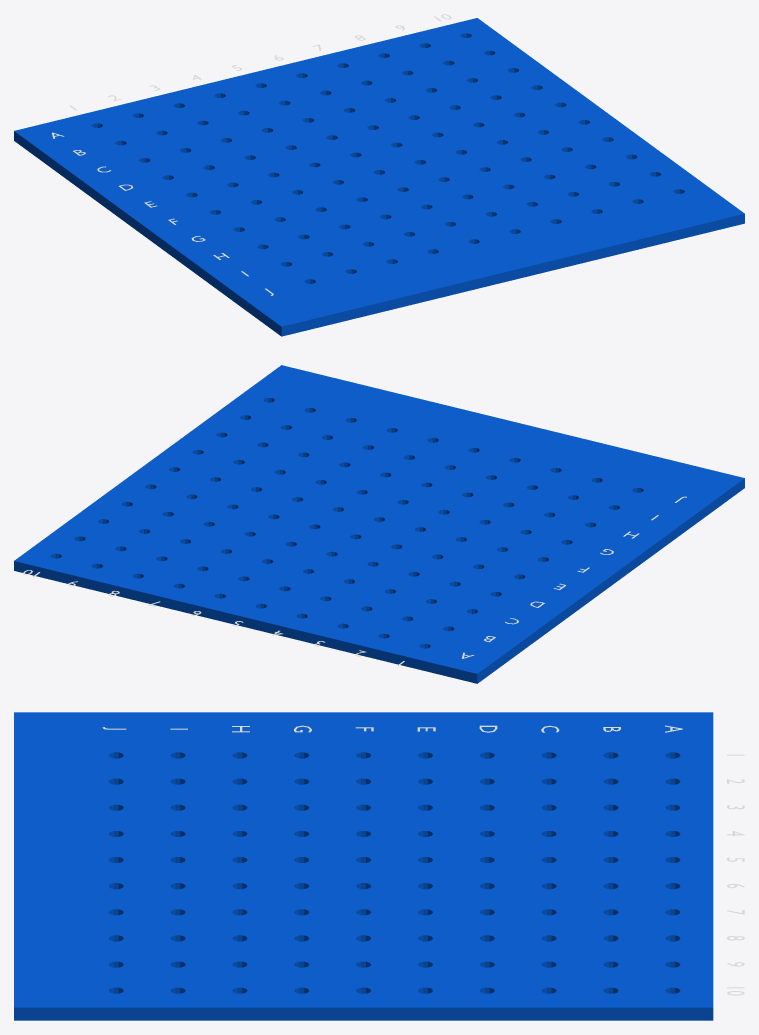
Rendered from ocean_grid_10x10_holes.glb.
3 views of the same model, one above another, from view 1: azimuth 30°, elevation 25°; view 2: azimuth 150°, elevation 25°; view 3: azimuth 270°, elevation 25° (orthographic). The views are drawn at different scales.
Parts seen in each view (by area): view 1: ocean_grid, grid_labels; view 2: ocean_grid, grid_labels; view 3: ocean_grid, grid_labels.
Part boxes in pixels (x1=…): ocean_grid: x1=14, y1=18, x2=744, y2=336; grid_labels: x1=52, y1=14, x2=451, y2=295; ocean_grid: x1=14, y1=365, x2=744, y2=683; grid_labels: x1=22, y1=496, x2=686, y2=666; ocean_grid: x1=14, y1=712, x2=713, y2=1020; grid_labels: x1=102, y1=725, x2=744, y2=995.
Size of the model in its own units: 0.147 by 0.00305 by 0.1537.
